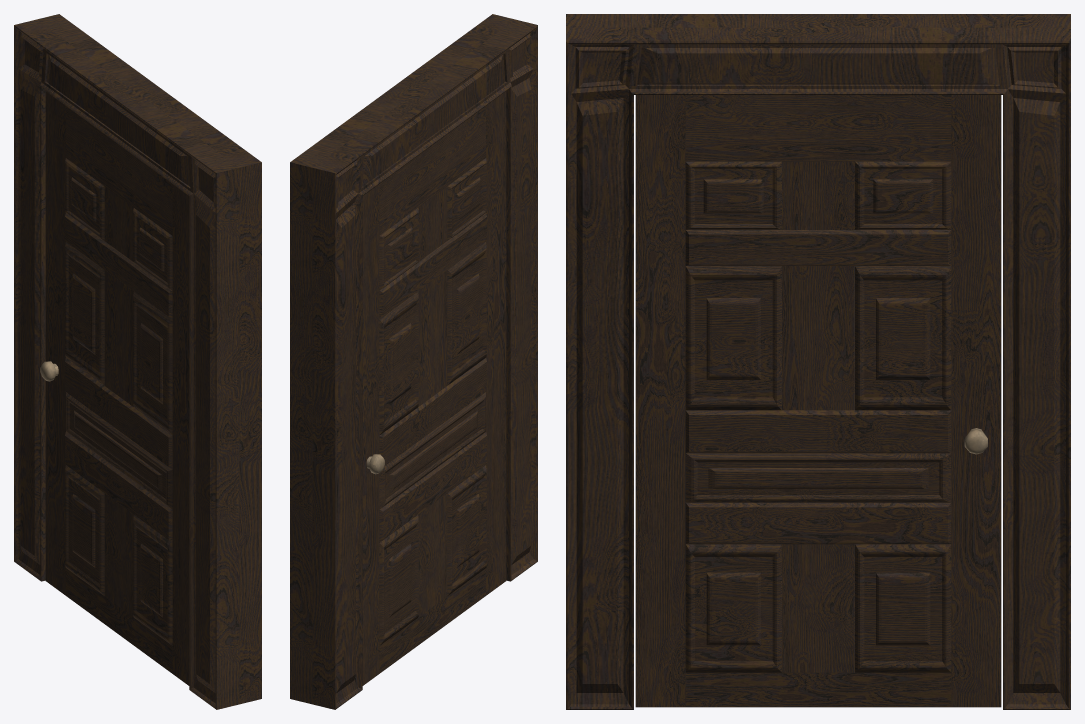
File: Door.fbx
The picture shows the model from 3 angles, left to right: view 1: azimuth 30°, elevation 25°; view 2: azimuth 150°, elevation 25°; view 3: azimuth 270°, elevation 25°; orthographic projection. The views are drawn at different scales.
Parts seen in each view (by area): view 1: DoorFrame01.001, Door01.001; view 2: DoorFrame01.001, Door01.001; view 3: Door01.001, DoorFrame01.001.
Boxes of the visible parts, x1=… form: DoorFrame01.001: x1=14, y1=14, x2=261, y2=709; Door01.001: x1=40, y1=91, x2=189, y2=685; DoorFrame01.001: x1=290, y1=14, x2=537, y2=709; Door01.001: x1=362, y1=91, x2=506, y2=685; Door01.001: x1=635, y1=95, x2=1001, y2=707; DoorFrame01.001: x1=566, y1=14, x2=1070, y2=709.
Bounding box in the file's own units: 32.82 × 250 × 171.
